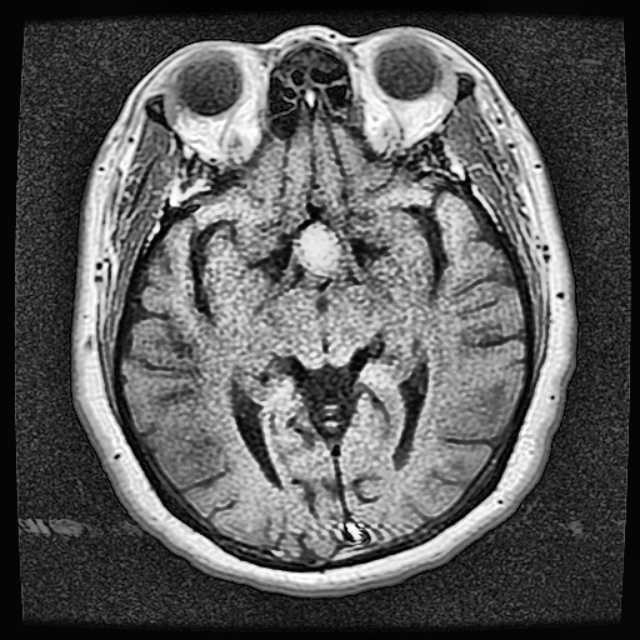Pituitary: (299, 219, 340, 268)
